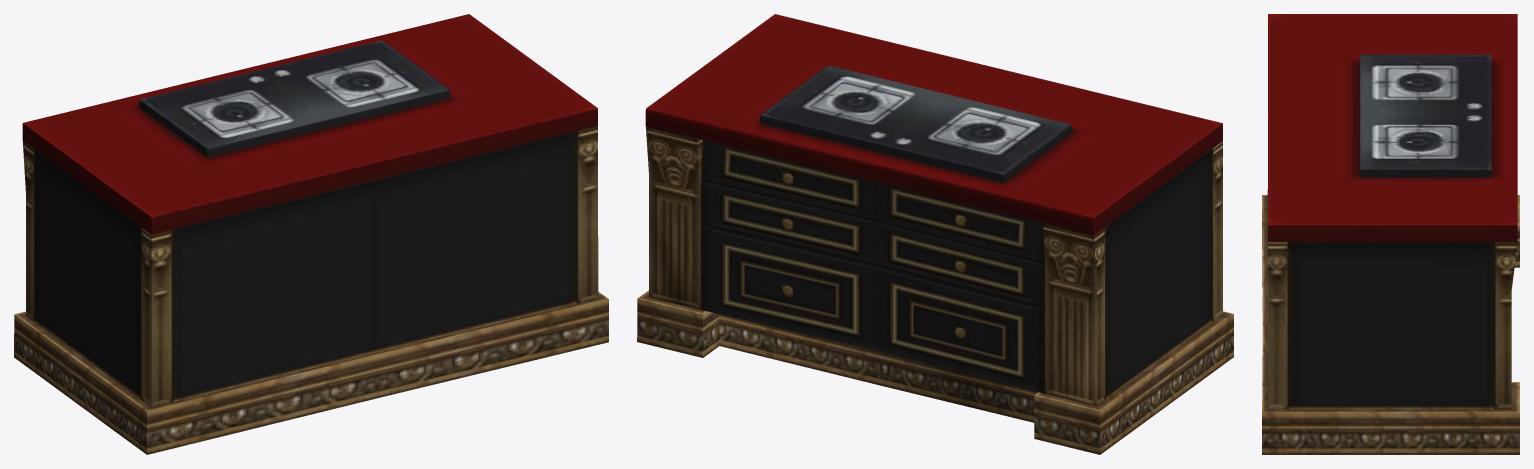
The model's file is furni_0200319.FBX.
3 renders of one model, left to right at view 1: azimuth 30°, elevation 25°; view 2: azimuth 150°, elevation 25°; view 3: azimuth 270°, elevation 25°, orthographic. The views are drawn at different scales.
Parts seen in each view (by area): view 1: furni_0200319; view 2: furni_0200319; view 3: furni_0200319.
Part boxes in pixels (box(x1,y1,x2,y2)): furni_0200319: box(14, 14, 608, 454); furni_0200319: box(637, 14, 1233, 454); furni_0200319: box(1262, 14, 1519, 454).
Size of the model in its own units: 165 by 82.8 by 82.62.
1 material, 1 textured.
